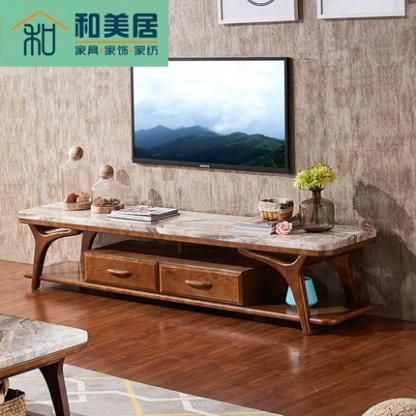TV stand: (20, 205, 372, 332)
Wooden floor: (0, 260, 416, 416)
